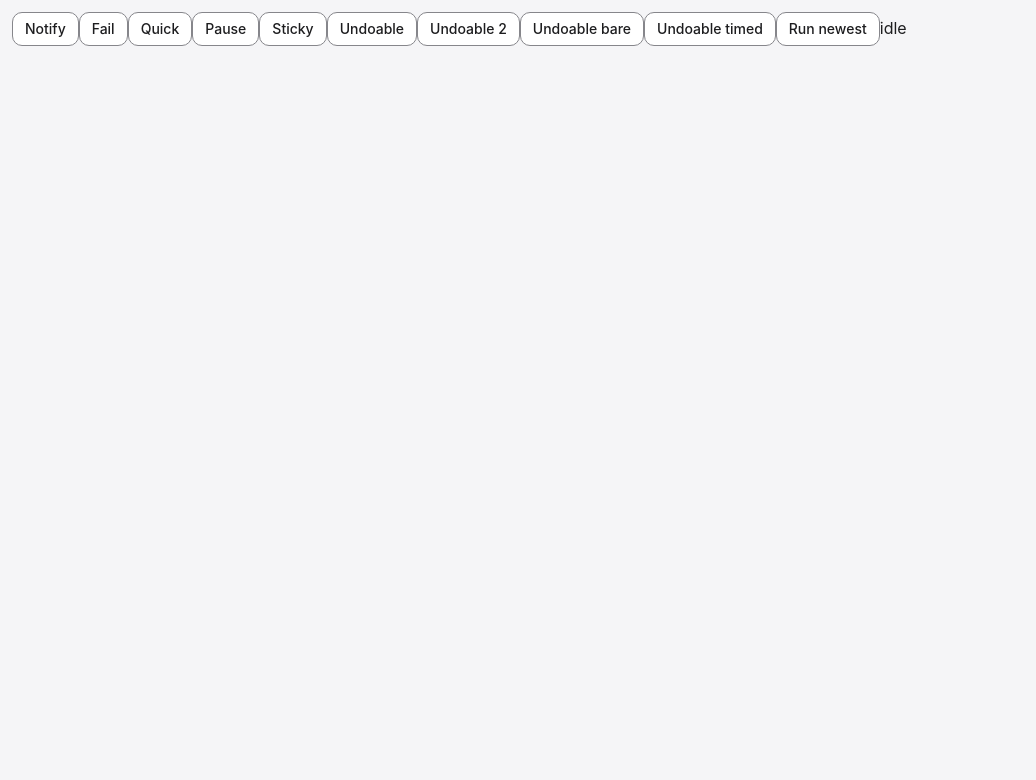
it: Toast › Dismiss all › goes away again when the pile shrinks to one toast
What coordinates should you click on to do the following:
click the button "Undoable"
I would click on:
 (372, 29)
Its box is 327,12 -> 417,46.
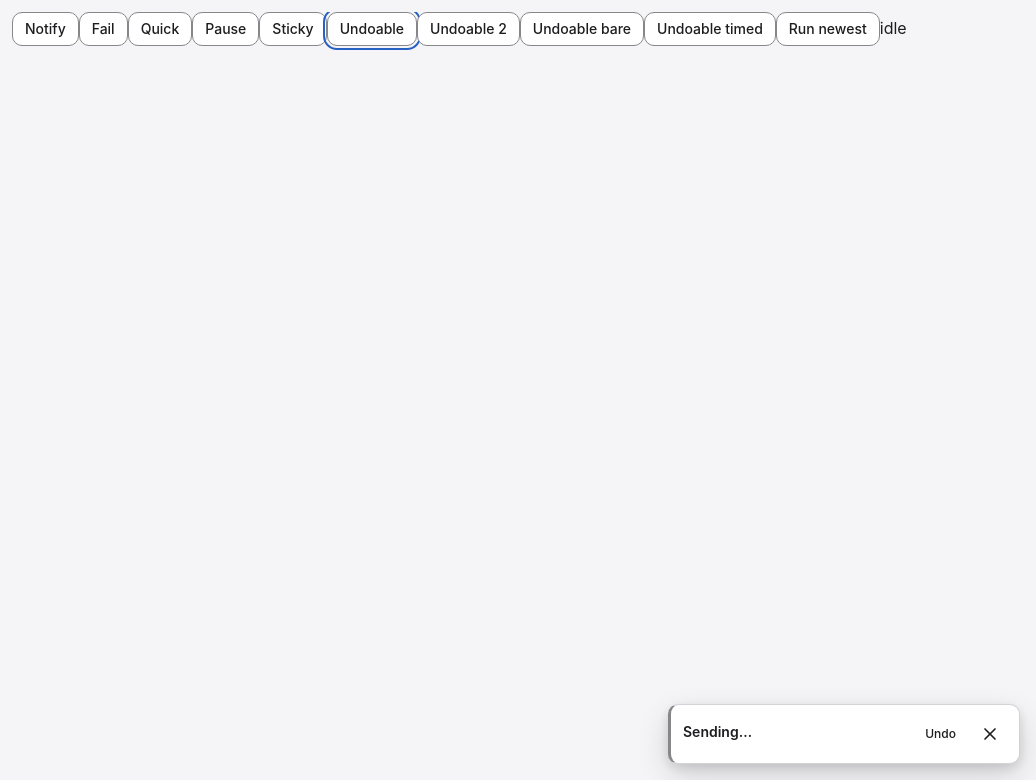
What coordinates should you click on to do the following:
click the button "Undoable 2"
I would click on:
 (468, 29)
Its box is 417,12 -> 520,46.
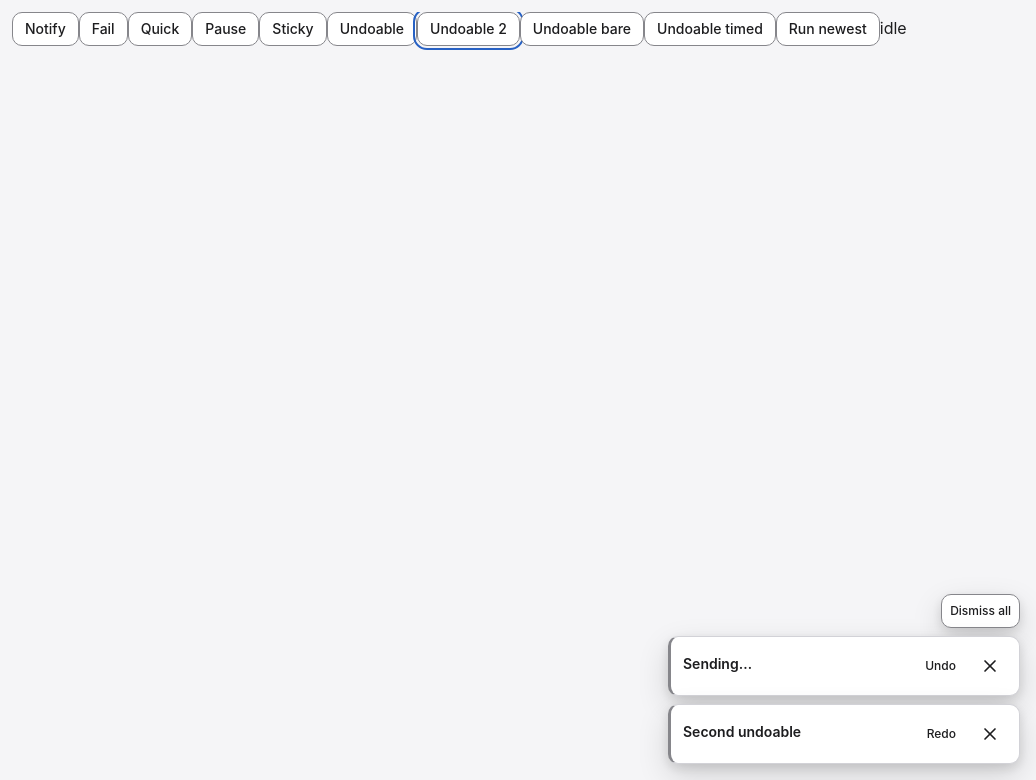
Expected: the button "Dismiss all" is shown, 941,594 -> 1020,628
What coordinates should you click on to do the following:
click the button named "Dismiss" in the row of "Sending…"
I would click on:
 (990, 666)
Its box is 973,649 -> 1007,683.
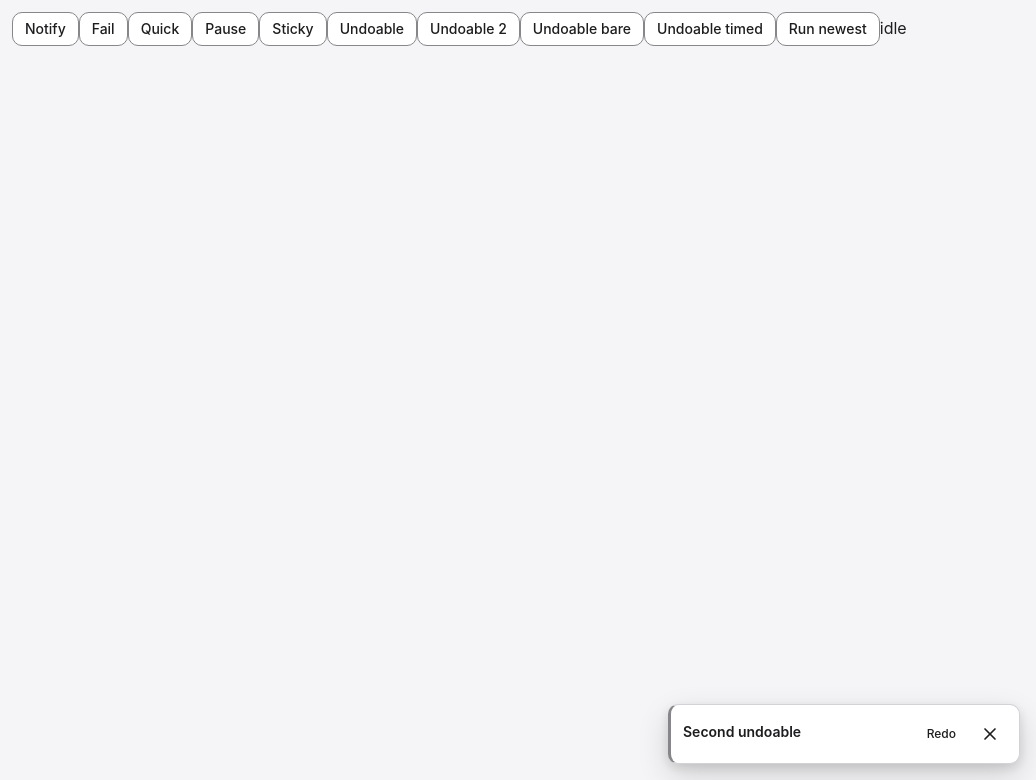
Expected: the button "Dismiss all" is gone
